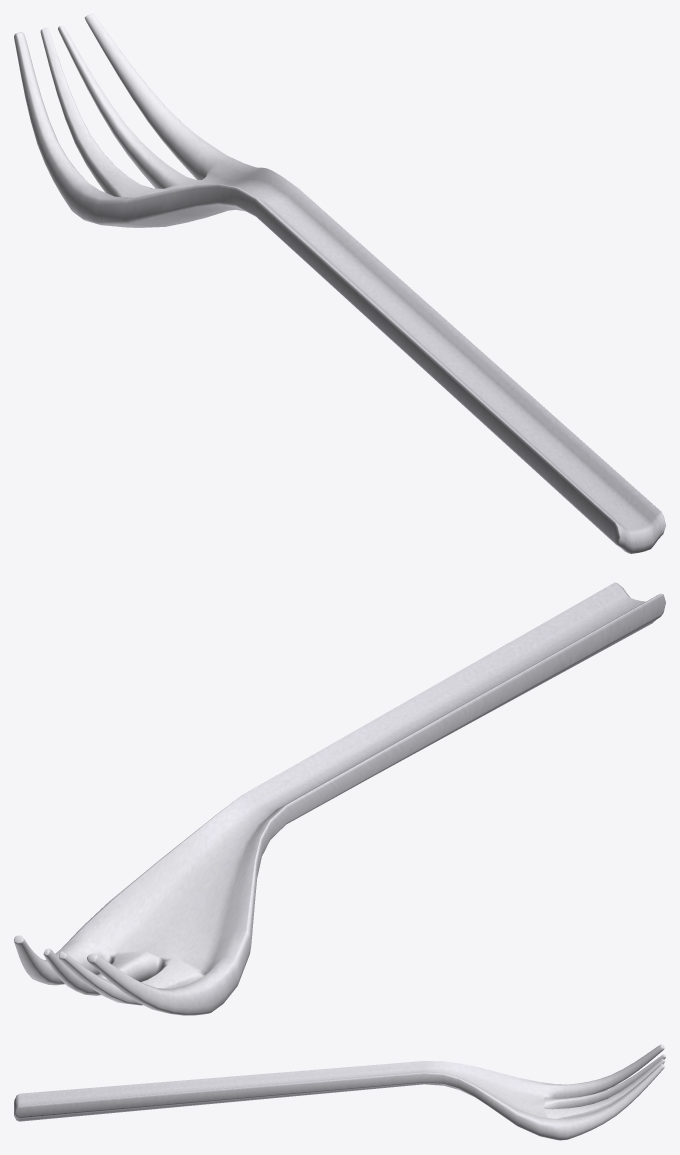
Rendered from plastic_fork.fbx.
The picture shows the model from 3 angles, top to bottom: view 1: azimuth 30°, elevation 25°; view 2: azimuth 150°, elevation 25°; view 3: azimuth 270°, elevation 25°; orthographic projection. The views are drawn at different scales.
Parts seen in each view (by area): view 1: PlasticFork__HighRes1; view 2: PlasticFork__HighRes1; view 3: PlasticFork__HighRes1.
Boxes of the visible parts, left/top/right/bottom form: PlasticFork__HighRes1: left=14, top=14, right=665, bottom=553; PlasticFork__HighRes1: left=14, top=582, right=665, bottom=1015; PlasticFork__HighRes1: left=14, top=1044, right=665, bottom=1140.
Bounding box in the file's own units: 1.48 × 1.03 × 9.38.
1 material, 1 textured.
